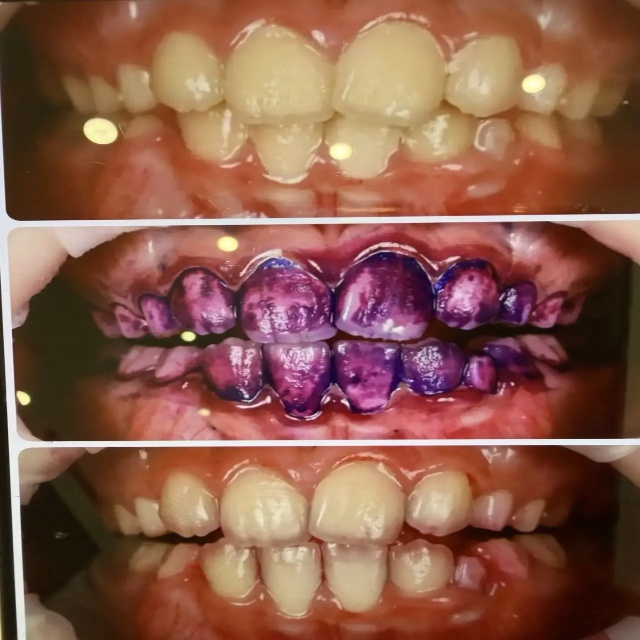clean_tooth: (222, 48, 298, 118), (252, 476, 329, 539), (337, 480, 410, 539), (320, 59, 393, 110), (573, 230, 628, 290), (322, 546, 369, 615), (258, 544, 310, 602), (247, 128, 309, 176), (144, 48, 191, 101), (322, 128, 368, 181), (186, 483, 228, 523), (590, 448, 622, 487), (82, 71, 117, 106), (578, 613, 617, 639), (191, 116, 215, 154), (208, 553, 236, 585), (391, 545, 415, 579), (430, 496, 457, 525), (428, 72, 457, 99), (523, 118, 554, 143)
plaque: (117, 254, 381, 417), (404, 294, 443, 332), (376, 370, 414, 400), (106, 284, 136, 322), (461, 299, 491, 330)
